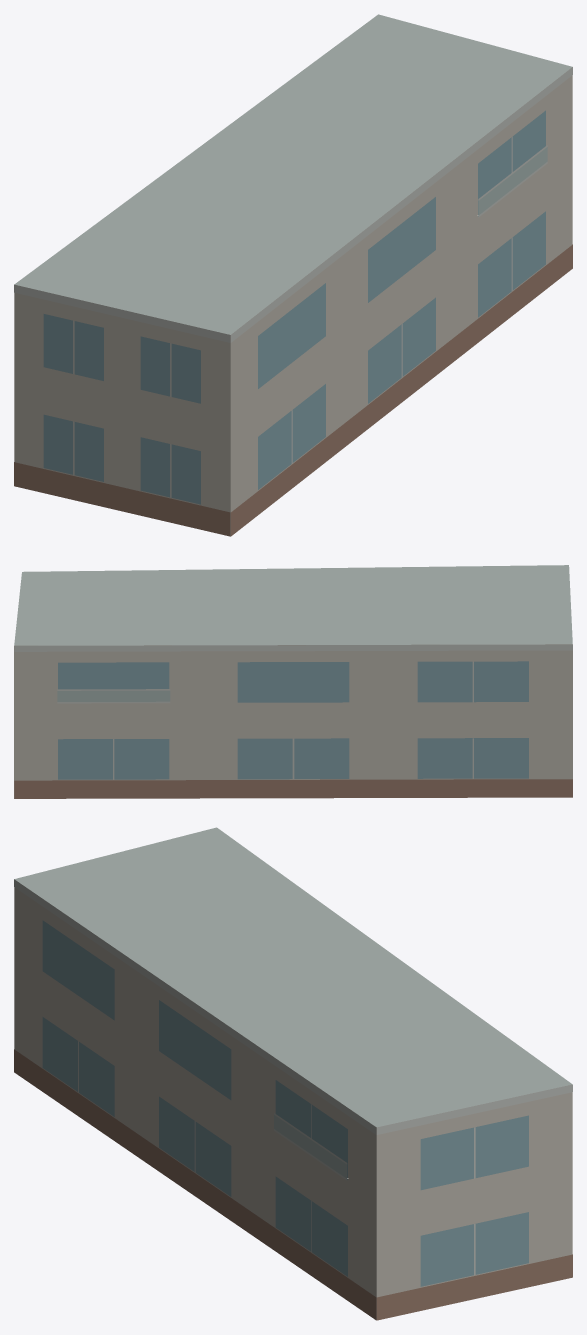
File: survey-upis-32881511.glb
The picture shows the model from 3 angles, top to bottom: view 1: azimuth 30°, elevation 25°; view 2: azimuth 150°, elevation 25°; view 3: azimuth 270°, elevation 25°; orthographic projection. The views are drawn at different scales.
Parts seen in each view (by area): view 1: survey-upis-32881511.tmp; view 2: survey-upis-32881511.tmp; view 3: survey-upis-32881511.tmp.
Part boxes in pixels (x1,y1,x2,y2): survey-upis-32881511.tmp: (14, 14, 572, 536); survey-upis-32881511.tmp: (14, 565, 572, 798); survey-upis-32881511.tmp: (14, 827, 572, 1320).
Size of the model in its own units: 20.34 by 6.1 by 16.01.
